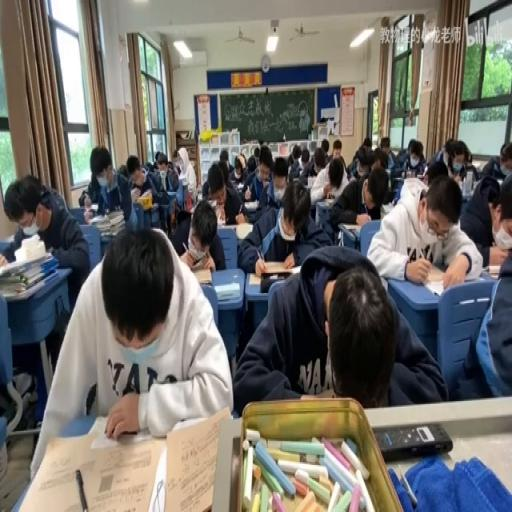calculator: (161, 405, 233, 509), (145, 445, 166, 512), (250, 260, 297, 282), (214, 282, 240, 300), (98, 219, 124, 235), (190, 268, 213, 284), (234, 222, 254, 240), (481, 263, 502, 279), (339, 222, 363, 233), (462, 170, 472, 194), (218, 220, 238, 230), (380, 200, 393, 214), (88, 214, 104, 224), (318, 196, 334, 205), (2, 233, 16, 243), (229, 151, 238, 166), (242, 201, 258, 209), (306, 176, 315, 188), (204, 198, 217, 206), (288, 265, 301, 273), (177, 174, 187, 184), (235, 180, 245, 190), (416, 170, 426, 180), (88, 202, 98, 212), (392, 176, 403, 184), (195, 188, 202, 200), (384, 165, 390, 175)
paper: (29, 224, 229, 480), (232, 246, 440, 412), (368, 172, 482, 292), (2, 171, 93, 304), (238, 178, 332, 274), (82, 145, 136, 230), (329, 158, 387, 237), (473, 167, 512, 271), (134, 154, 173, 232), (198, 158, 242, 227), (476, 141, 510, 183), (397, 138, 428, 179), (445, 138, 470, 181), (237, 154, 260, 198), (287, 145, 307, 181), (328, 139, 345, 172), (424, 158, 446, 183), (258, 145, 272, 174), (165, 161, 179, 189), (372, 148, 389, 171), (273, 162, 288, 188), (127, 166, 141, 190), (314, 151, 324, 175), (76, 189, 90, 206), (379, 135, 390, 152), (154, 151, 166, 166), (116, 162, 128, 176), (319, 138, 328, 155), (219, 148, 229, 163), (362, 136, 372, 150), (253, 145, 259, 165), (144, 162, 154, 174), (247, 163, 256, 175), (406, 149, 414, 162), (240, 155, 246, 168), (172, 149, 178, 161), (301, 156, 307, 168)
person: (374, 422, 452, 461), (326, 190, 334, 198)
